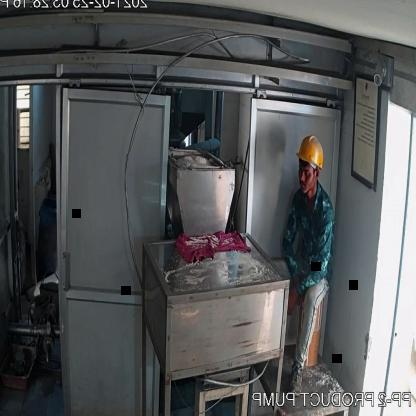helmet: (294, 129, 325, 175)
